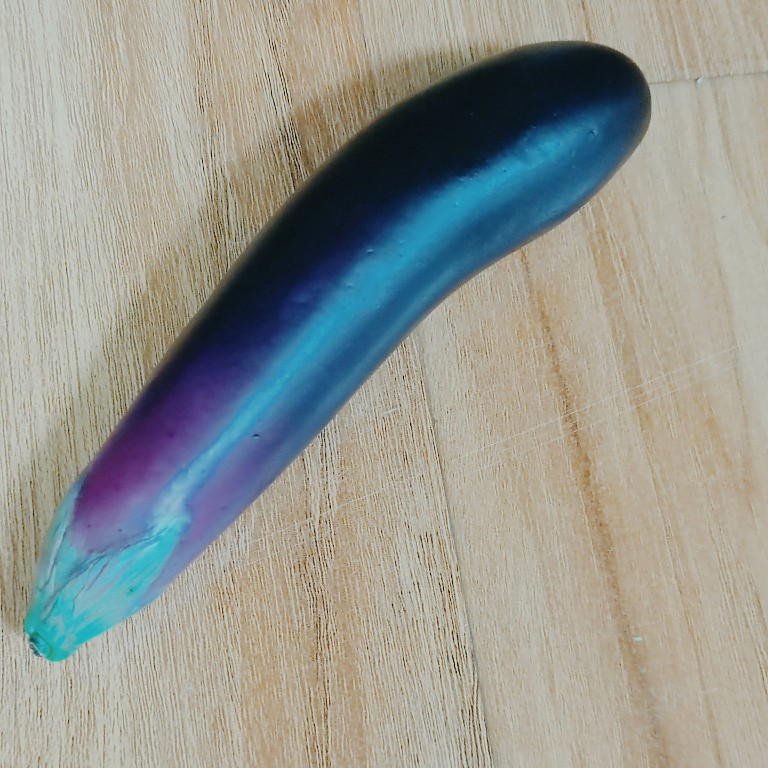fruit_eggplant: (21, 35, 655, 666)
